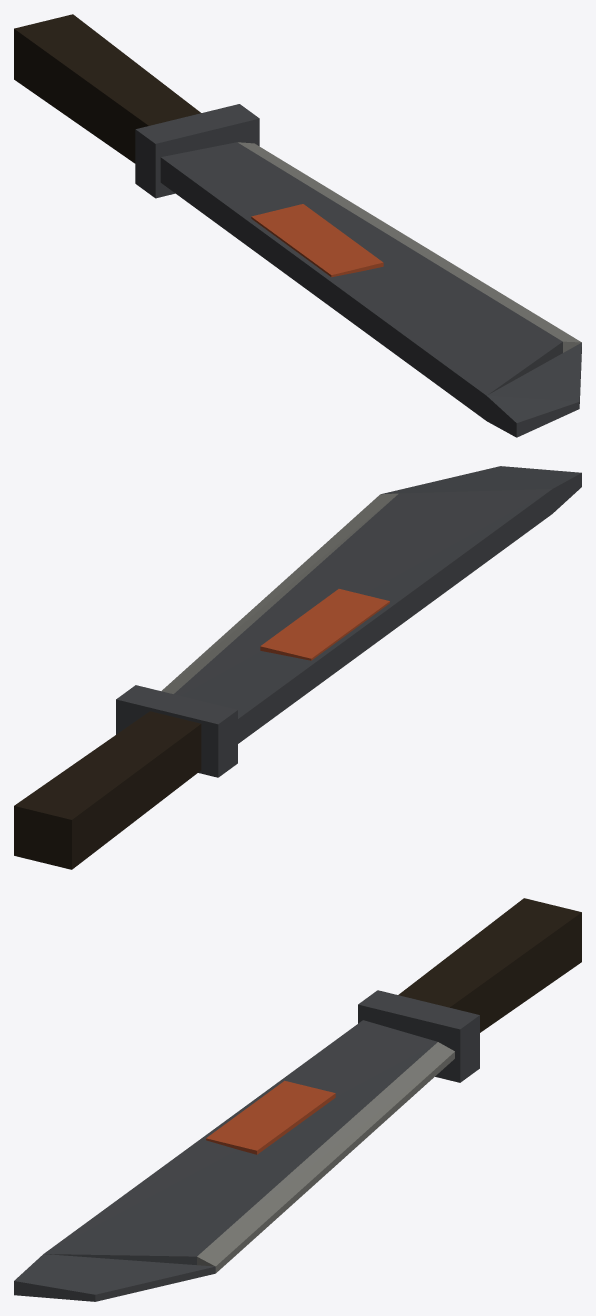
The model's file is machete.glb.
3 renders of one model, top to bottom at view 1: azimuth 30°, elevation 25°; view 2: azimuth 150°, elevation 25°; view 3: azimuth 330°, elevation 25°, orthographic.
Visible parts, largest first — view 1: machete; view 2: machete; view 3: machete.
Part boxes in pixels (left/top/right/bottom): machete: left=14, top=14, right=581, bottom=437; machete: left=14, top=466, right=581, bottom=869; machete: left=14, top=898, right=581, bottom=1301.
Bounding box in the file's own units: 0.081 × 0.03 × 0.51.
